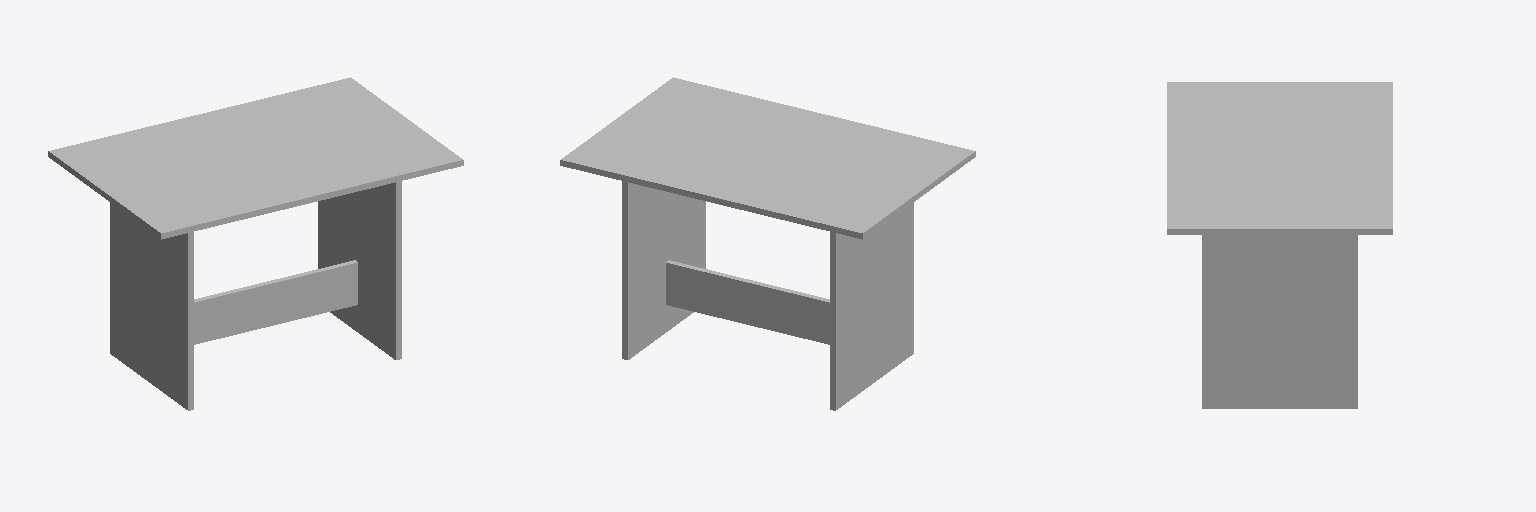
File: Уно-3.obj
The picture shows the model from 3 angles: view 1: azimuth 30°, elevation 25°; view 2: azimuth 150°, elevation 25°; view 3: azimuth 270°, elevation 25°; orthographic projection.
Parts seen in each view (by area): view 1: Cube.004_Cube.005; view 2: Cube.004_Cube.005; view 3: Cube.004_Cube.005.
Boxes of the visible parts, box(x1,y1,x2,y2) form: Cube.004_Cube.005: box(48, 77, 463, 410); Cube.004_Cube.005: box(560, 77, 975, 410); Cube.004_Cube.005: box(1167, 82, 1392, 408).
Size of the model in its own units: 2.39 by 1.52 by 1.54.